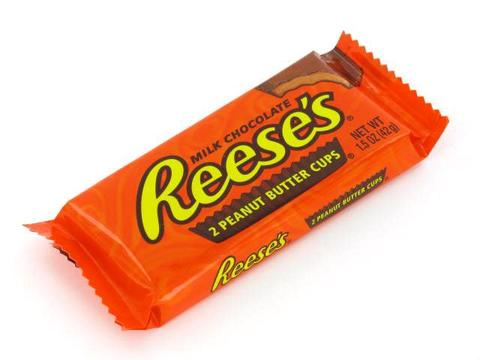reese: (19, 40, 463, 336)
